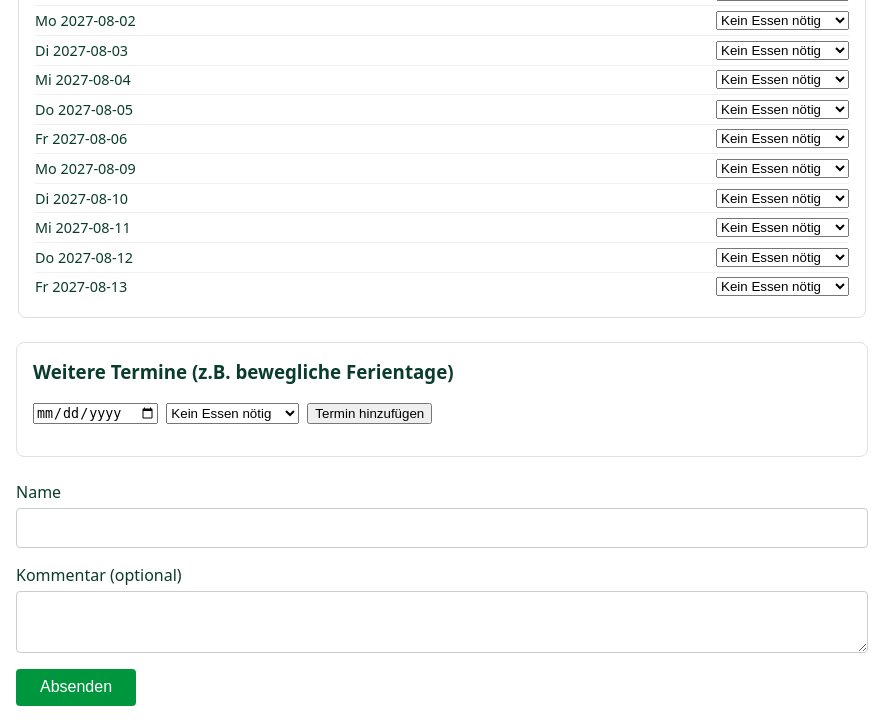
Test case: SurveyForm › entfernt den Namens-Hinweis, sobald mit der Eingabe eines Namens begonnen wird
(page scrolled)
Click the button "Absenden" at (76, 688), box left=16, top=669, right=136, bottom=706
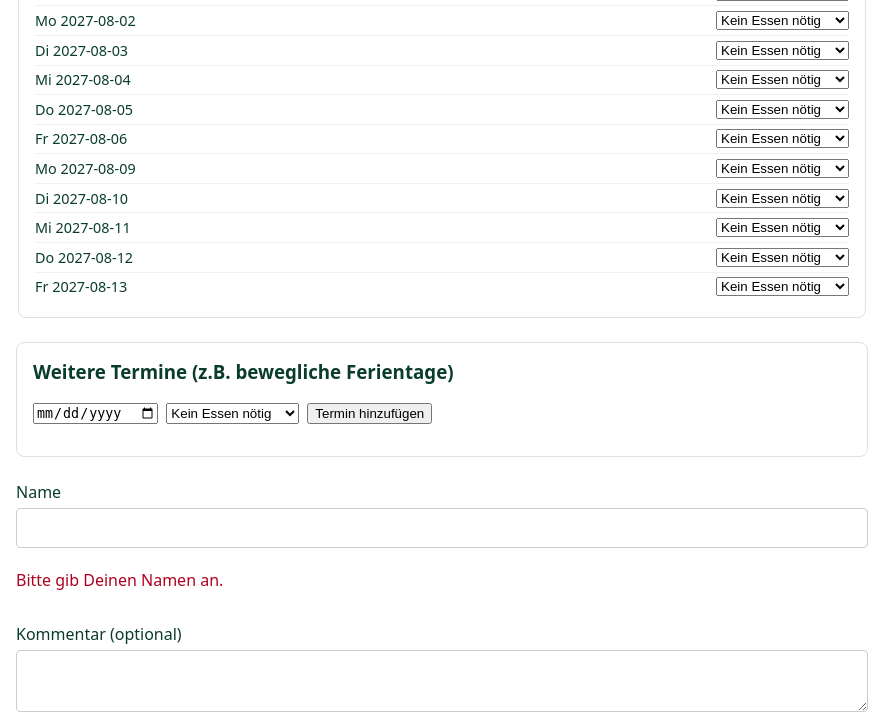
Expected: the text "Bitte gib Deinen Namen an." is shown, left=16, top=569, right=223, bottom=591
Type "M" into the field labelled "Name" at (442, 528), box left=16, top=508, right=868, bottom=548
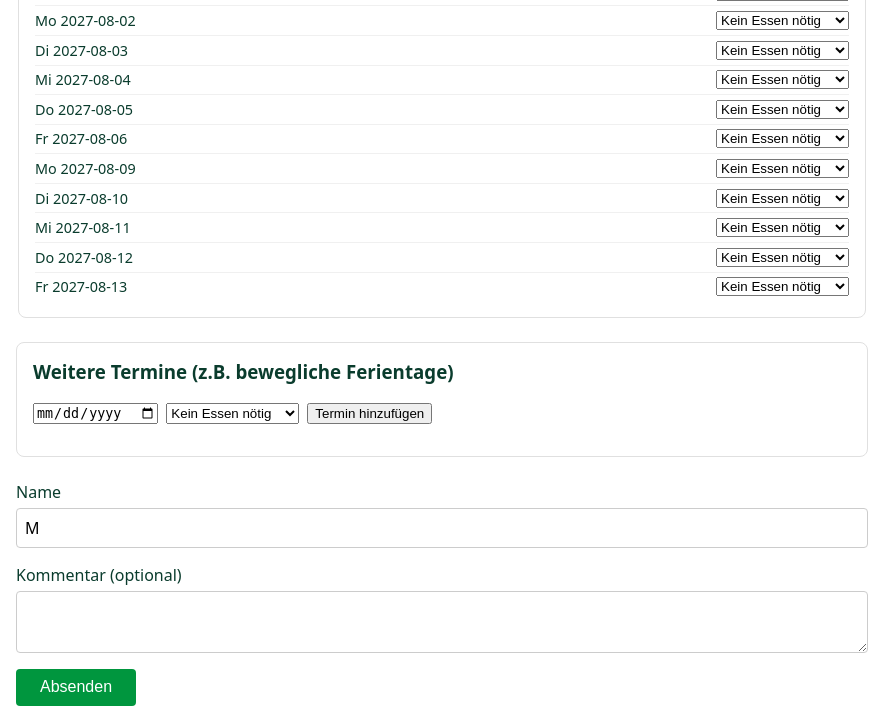
Expected: the text "Bitte gib Deinen Namen an." is gone
